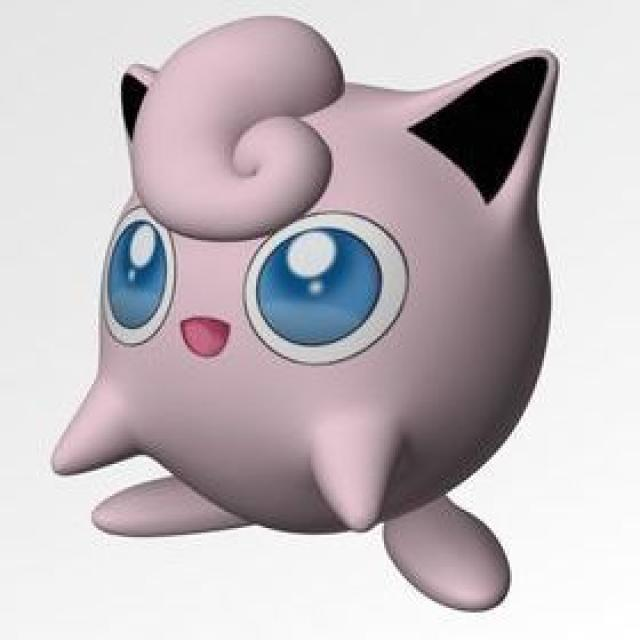Jigglypuff: (69, 19, 572, 537)
